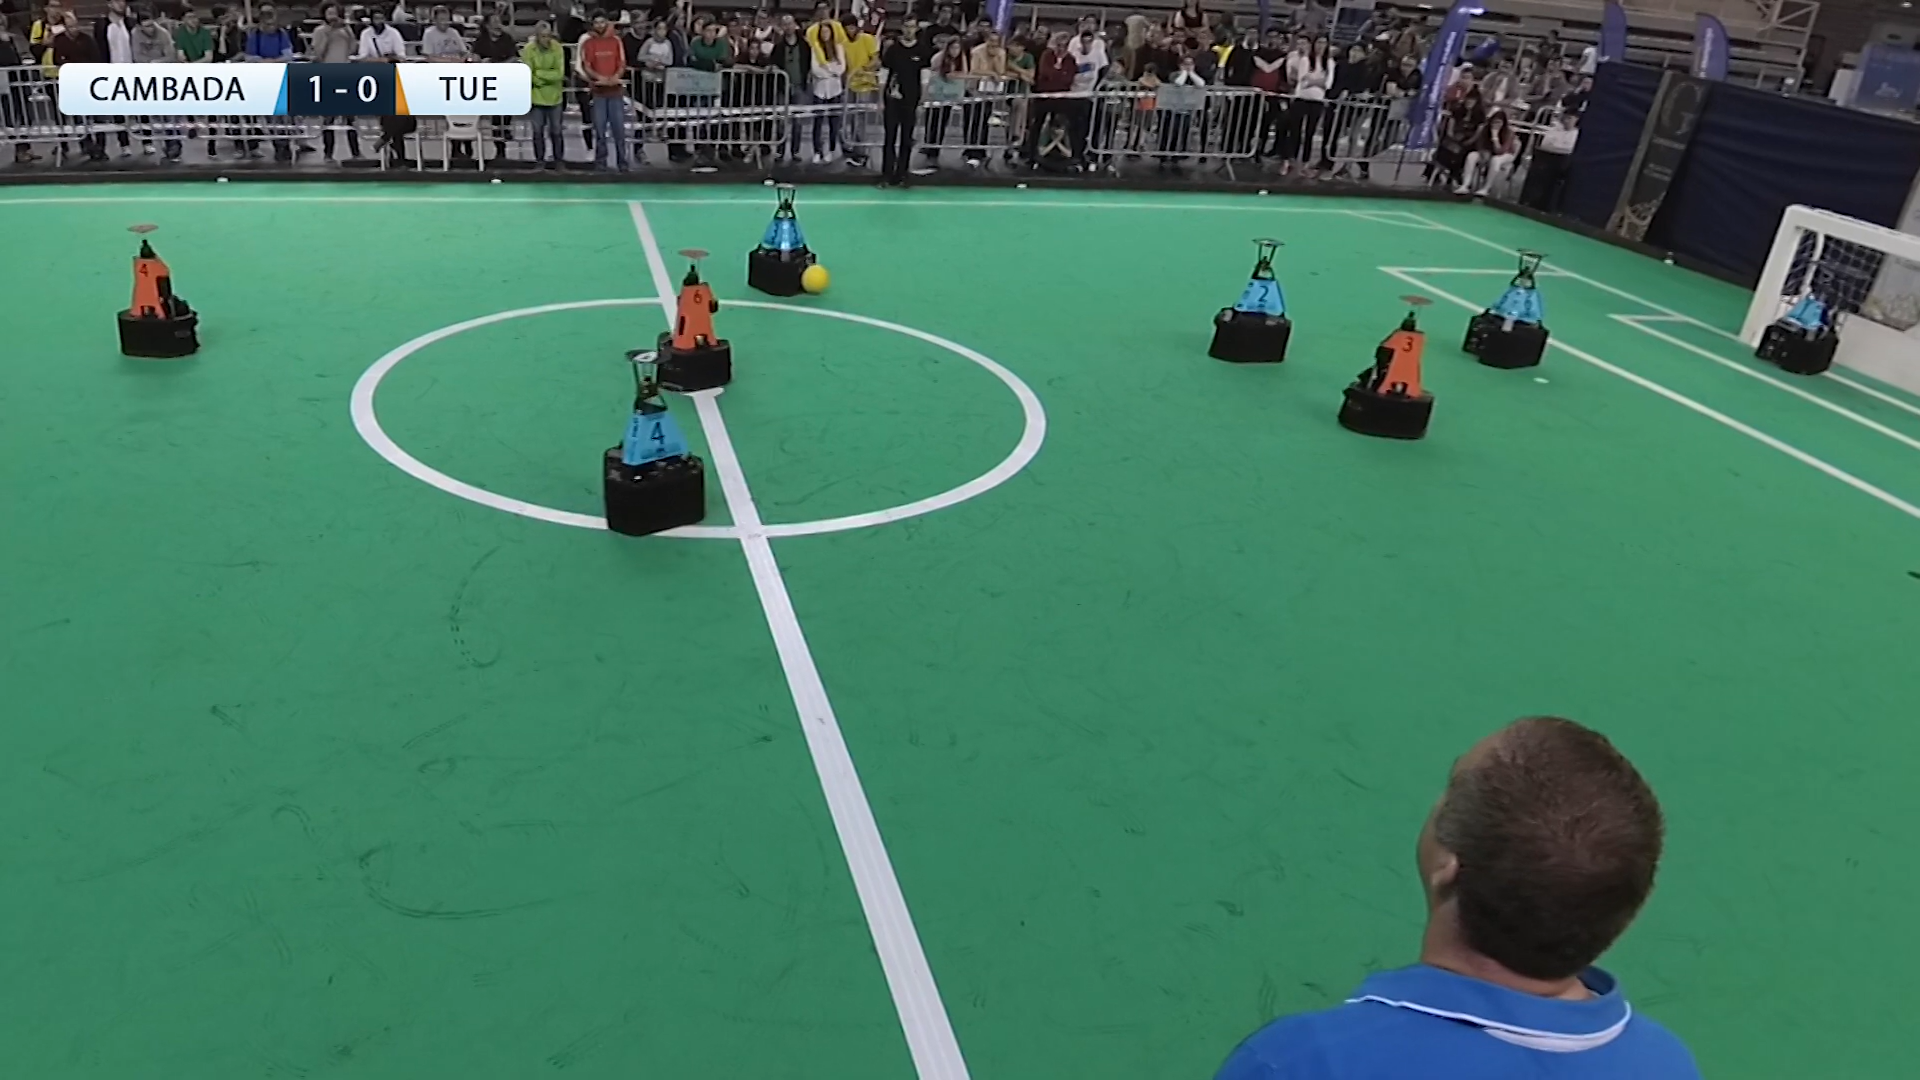BALL: (800, 264, 837, 295)
BLUE2: (1216, 261, 1284, 330)
BLUE3: (750, 206, 815, 272)
BLUE4: (615, 404, 698, 491)
BLUE6: (1474, 255, 1553, 353)
B_Goalie: (1764, 269, 1850, 371)
RED3: (1333, 305, 1439, 410)
RED4: (111, 225, 193, 355)
RED6: (665, 272, 735, 368)
Referee: (1236, 708, 1749, 1080)
